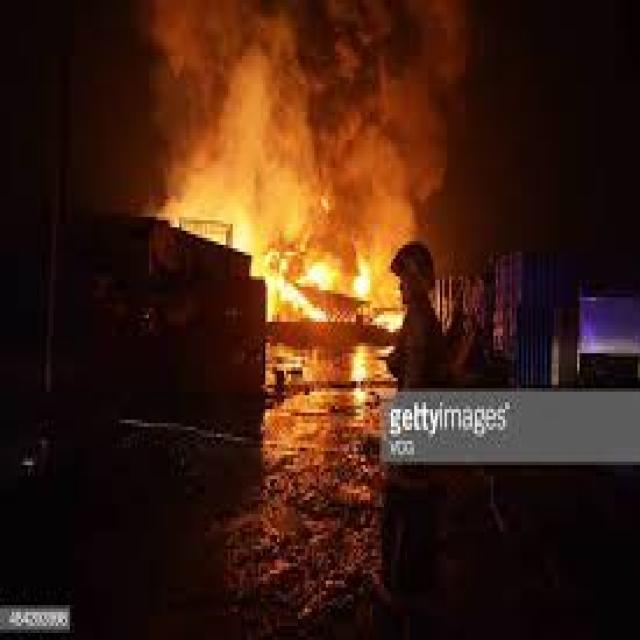Fire: (223, 214, 404, 334)
Smoke: (128, 1, 478, 212)
